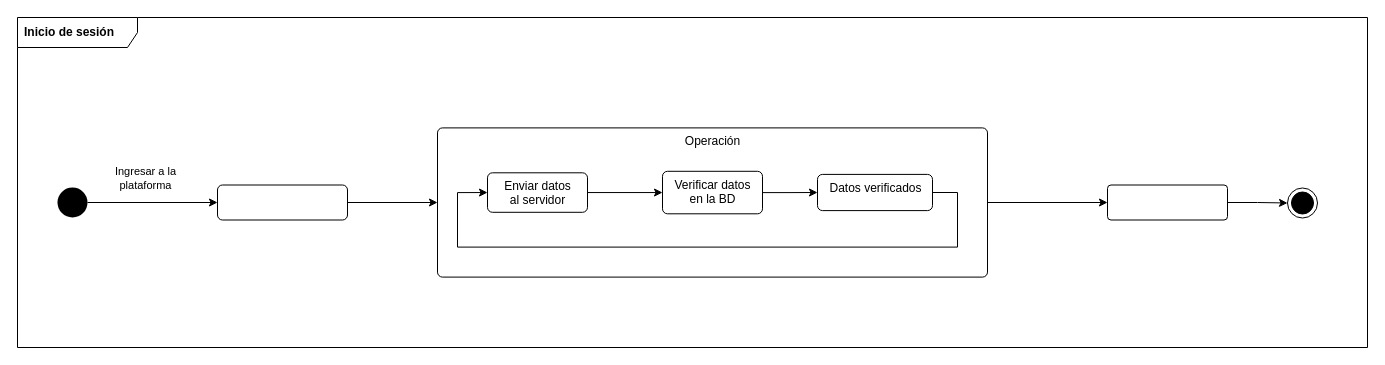
Some shapes in this 1385 by 365 pixel diagram are drawn without their labels. The centre of each missing label's shape, as x and y in pixels:
Ingresar datos: the point at 282,202
Mostrar perfil: the point at 1167,202
